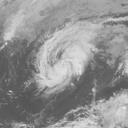cyclone: (33, 22, 125, 92)
